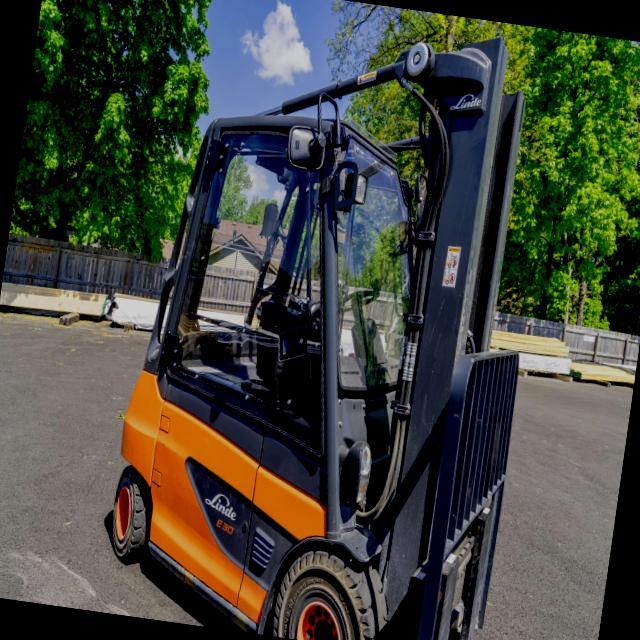forklift: (86, 0, 575, 640)
